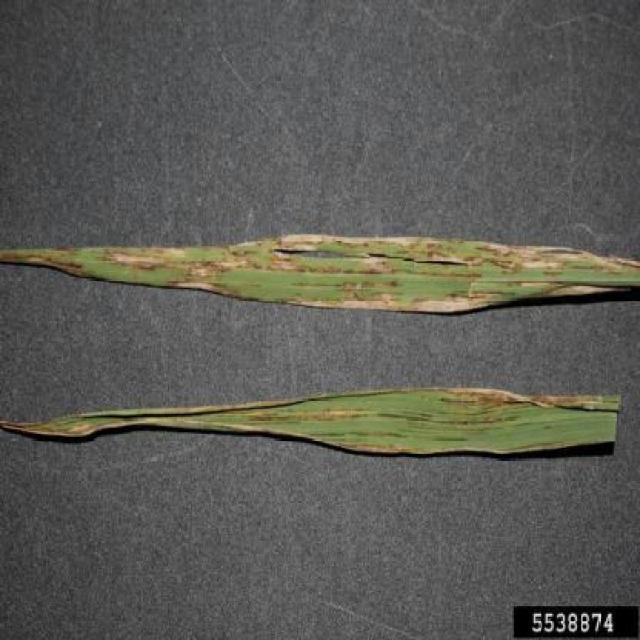Brown_Spot: (20, 222, 638, 310), (56, 368, 612, 426)
